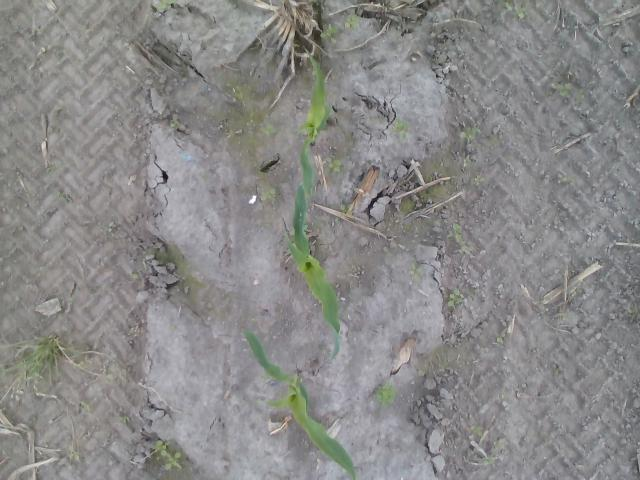Maize: (242, 327, 358, 480), (282, 181, 343, 361), (298, 44, 330, 203)
Weeds: (154, 439, 183, 470), (450, 222, 475, 257), (549, 80, 588, 102), (244, 120, 276, 145), (371, 379, 394, 404), (318, 20, 338, 44), (502, 0, 527, 18), (389, 118, 409, 140), (446, 284, 464, 308), (335, 203, 354, 225), (457, 125, 481, 142), (406, 262, 426, 282), (231, 82, 253, 98), (258, 184, 276, 202), (151, 0, 178, 12), (556, 172, 576, 188), (326, 158, 344, 172), (10, 386, 25, 402), (226, 128, 240, 145), (78, 398, 90, 417), (344, 16, 359, 30), (70, 450, 82, 464), (493, 438, 506, 450), (470, 424, 482, 437), (472, 174, 485, 186), (48, 190, 63, 200), (104, 222, 114, 234), (46, 166, 58, 176), (168, 119, 178, 130), (120, 414, 130, 425), (38, 46, 48, 56), (462, 158, 472, 168), (483, 456, 495, 464), (129, 271, 141, 278), (496, 334, 504, 344)
